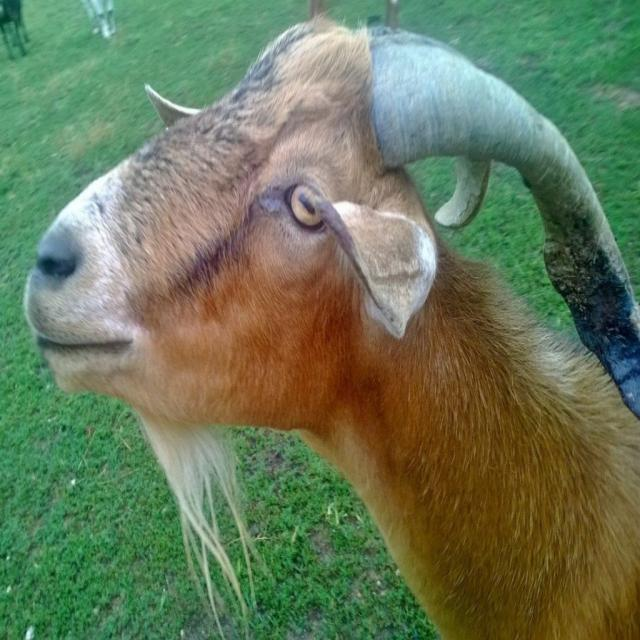Goat: (27, 12, 639, 639)
